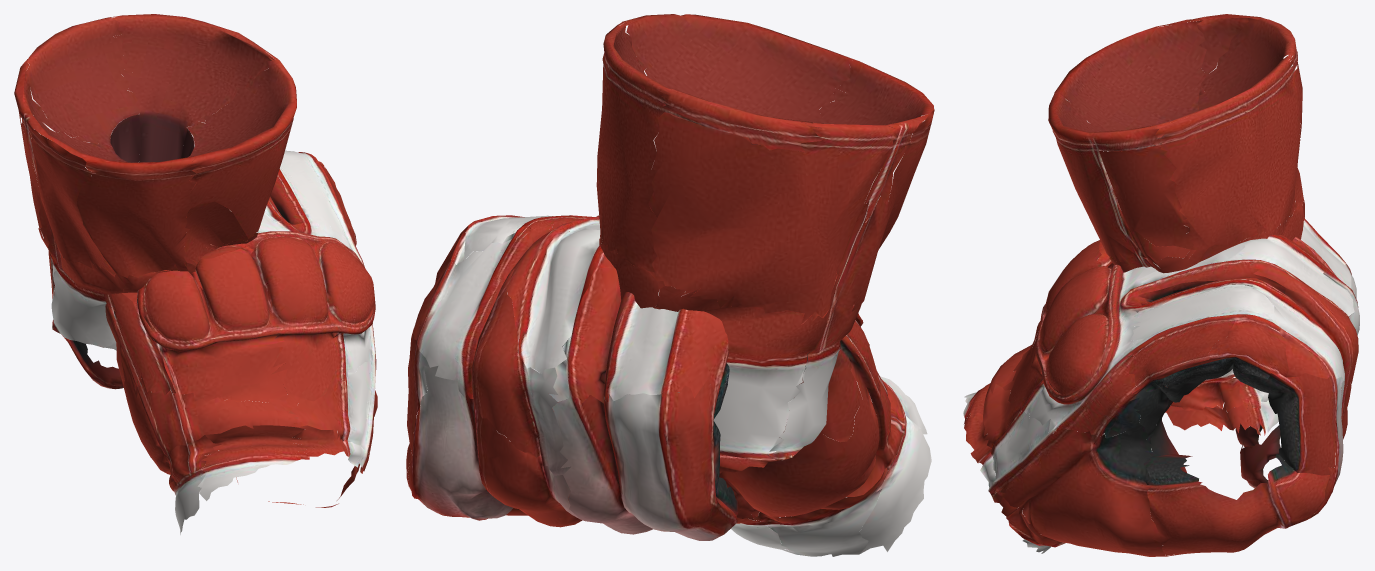
The model's file is gloves.glb.
3 renders of one model, left to right at view 1: azimuth 30°, elevation 25°; view 2: azimuth 150°, elevation 25°; view 3: azimuth 270°, elevation 25°, orthographic. The views are drawn at different scales.
Visible parts, largest first — view 1: Cuff, Glove; view 2: Glove, Cuff; view 3: Glove, Cuff.
Boxes of the visible parts, x1=… form: Cuff: x1=14, y1=14, x2=296, y2=350; Glove: x1=48, y1=150, x2=377, y2=534; Glove: x1=406, y1=208, x2=931, y2=556; Cuff: x1=589, y1=14, x2=934, y2=473; Glove: x1=963, y1=215, x2=1359, y2=556; Cuff: x1=1048, y1=14, x2=1304, y2=435.
Size of the model in its own units: 0.1376 by 0.1695 by 0.1301.
Materials: 1 (1 with a texture image).
